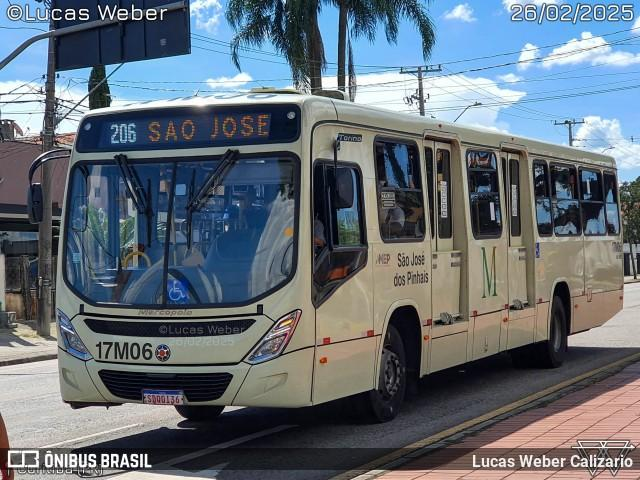SAO JOSE: (143, 112, 272, 145)
